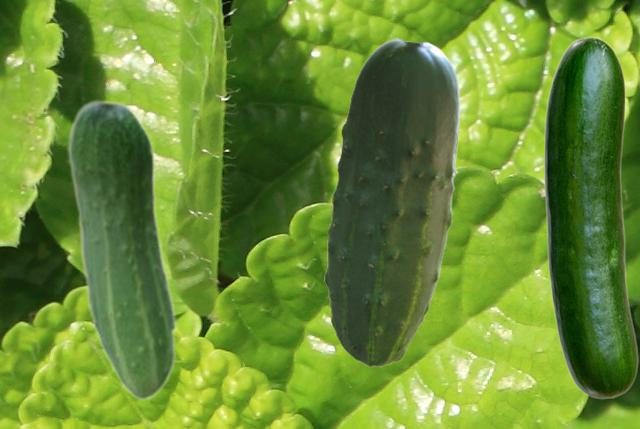cucumber: (324, 38, 459, 366), (543, 36, 637, 398), (67, 98, 177, 400)
